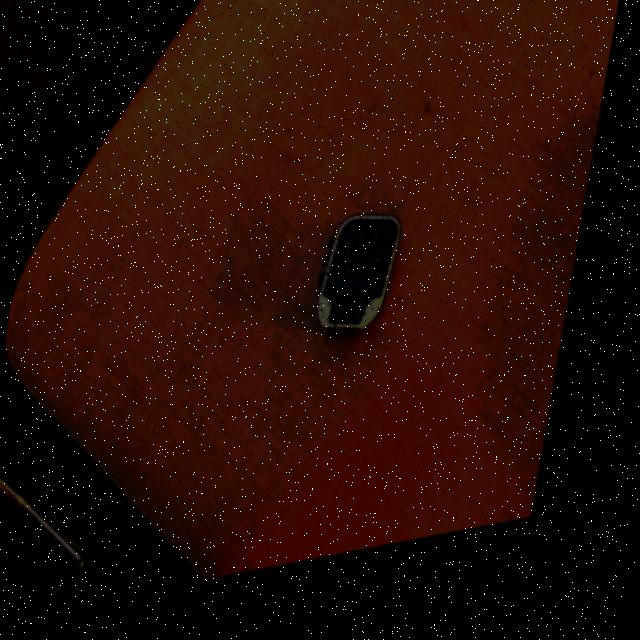adapter: (321, 222, 416, 356)
